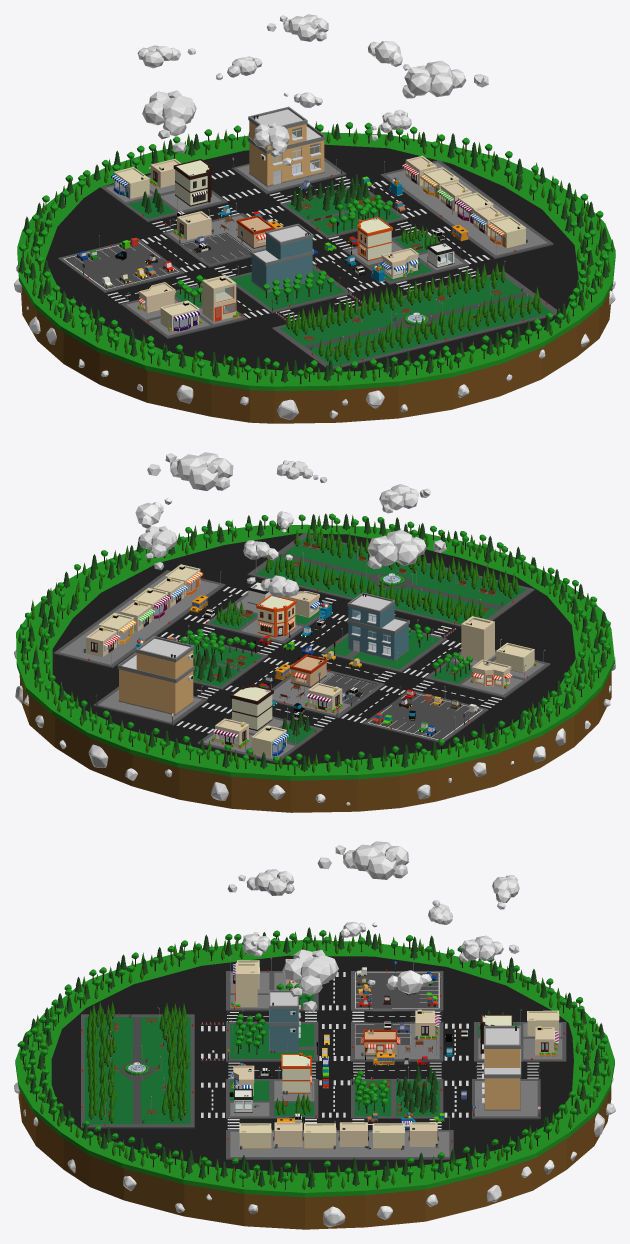
3 views of the same model, one above another, from view 1: azimuth 30°, elevation 25°; view 2: azimuth 150°, elevation 25°; view 3: azimuth 270°, elevation 25° (orthographic).
Visible parts, largest first — view 1: object 14, Plane.036, superpino.008, Plane, villa.002, villa, Icosphere.020, Nuvole grande.001, Nuvole grande.005, pino.006, pino.008, albergo.002 (+25 smaller); view 2: object 14, Plane.036, superpino.008, Plane, villa.002, villa, Icosphere.020, Nuvole grande.005, Nuvole grande.001, albergo.002, pino.009, albergo (+24 smaller); view 3: object 14, Plane.036, superpino.008, Plane, villa.002, Nuvole grande.001, Icosphere.020, Nuvole grande.005, villa, pino.010, albergo, Nuvole grande.003 (+19 smaller).
Boxes of the visible parts, x1,y1,x2,y2 form: object 14: (17, 132, 615, 423); Plane.036: (57, 158, 560, 369); superpino.008: (18, 121, 614, 384); Plane: (162, 184, 469, 313); villa.002: (247, 106, 325, 186); villa: (250, 223, 313, 292); Icosphere.020: (14, 265, 615, 419); Nuvole grande.001: (142, 90, 196, 153); Nuvole grande.005: (402, 60, 488, 98); pino.006: (334, 296, 541, 361); pino.008: (291, 265, 505, 335); albergo.002: (173, 159, 211, 206); object 14: (16, 524, 614, 812); Plane.036: (53, 533, 550, 763); superpino.008: (18, 513, 611, 774); Plane: (186, 592, 446, 718); villa.002: (117, 636, 194, 715); villa: (347, 592, 409, 660); Icosphere.020: (14, 650, 615, 805); Nuvole grande.005: (147, 452, 233, 490); Nuvole grande.001: (367, 529, 446, 569); albergo.002: (230, 684, 273, 730); pino.009: (265, 559, 473, 620); albergo: (256, 595, 296, 637); object 14: (15, 940, 614, 1229); Plane.036: (81, 971, 566, 1159); superpino.008: (17, 927, 610, 1189); Plane: (226, 1021, 443, 1118); villa.002: (482, 1025, 521, 1110); Nuvole grande.001: (317, 841, 409, 879); Icosphere.020: (14, 1077, 615, 1227); Nuvole grande.005: (282, 949, 338, 1012); villa: (269, 990, 300, 1052); pino.010: (94, 1001, 189, 1123); albergo: (281, 1052, 312, 1093); Nuvole grande.003: (227, 869, 294, 895).
Bounding box in the file's own units: 13565 × 5071 × 13590.
18 materials, 2 textured.
